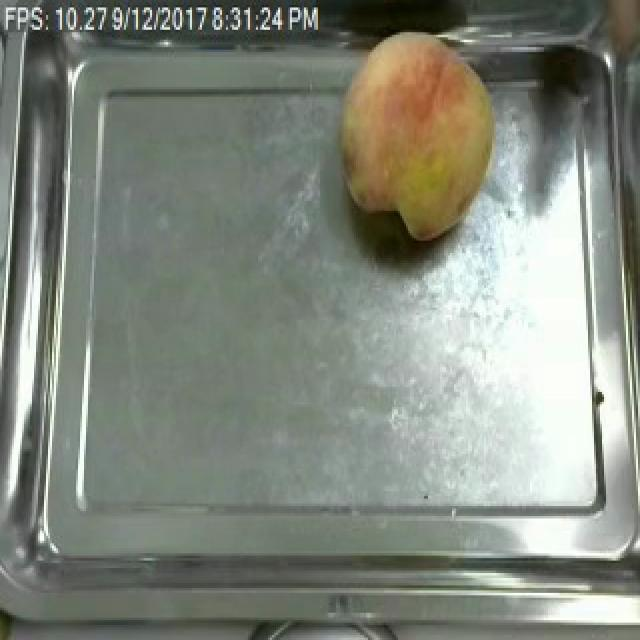Fruit: (328, 20, 508, 248)
